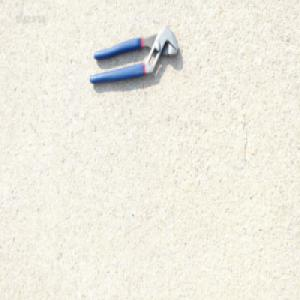Pliers: (88, 25, 178, 85)
